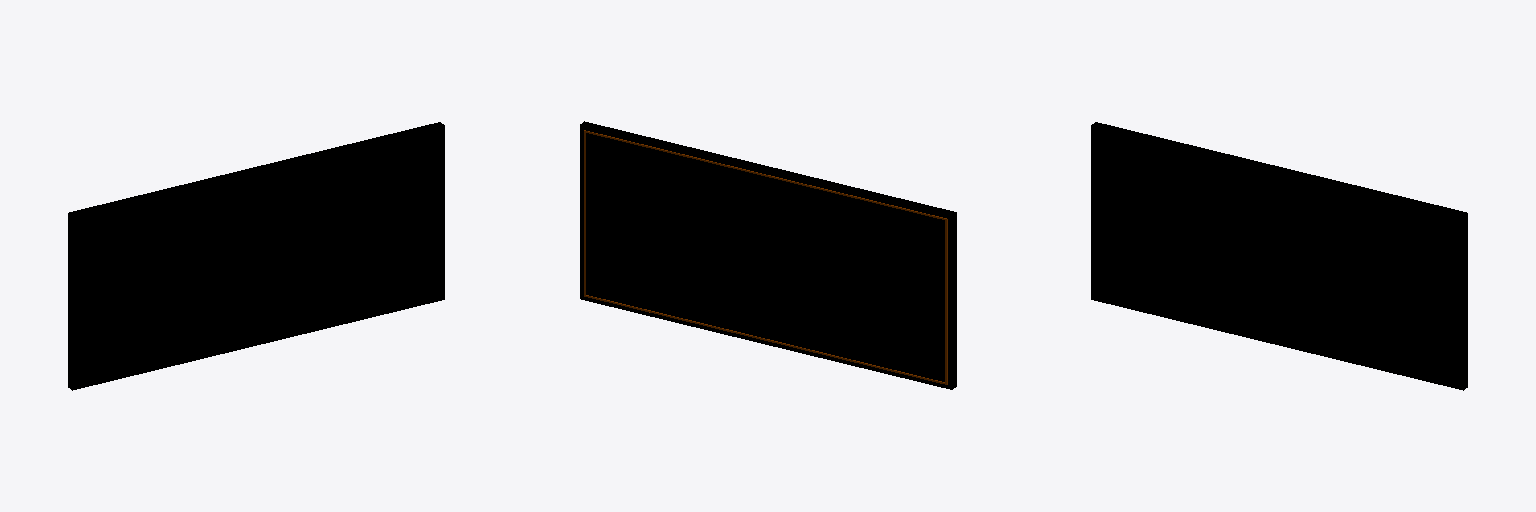
File: Cuadro.obj
The picture shows the model from 3 angles: view 1: azimuth 30°, elevation 25°; view 2: azimuth 150°, elevation 25°; view 3: azimuth 330°, elevation 25°; orthographic projection.
Visible parts, largest first — view 1: Painting; view 2: Painting; view 3: Painting.
Boxes of the visible parts, x1=… form: Painting: x1=68, y1=122, x2=444, y2=390; Painting: x1=580, y1=121, x2=956, y2=389; Painting: x1=1091, y1=122, x2=1467, y2=390.
Bounding box in the file's own units: 3.74 × 1.68 × 0.0883.